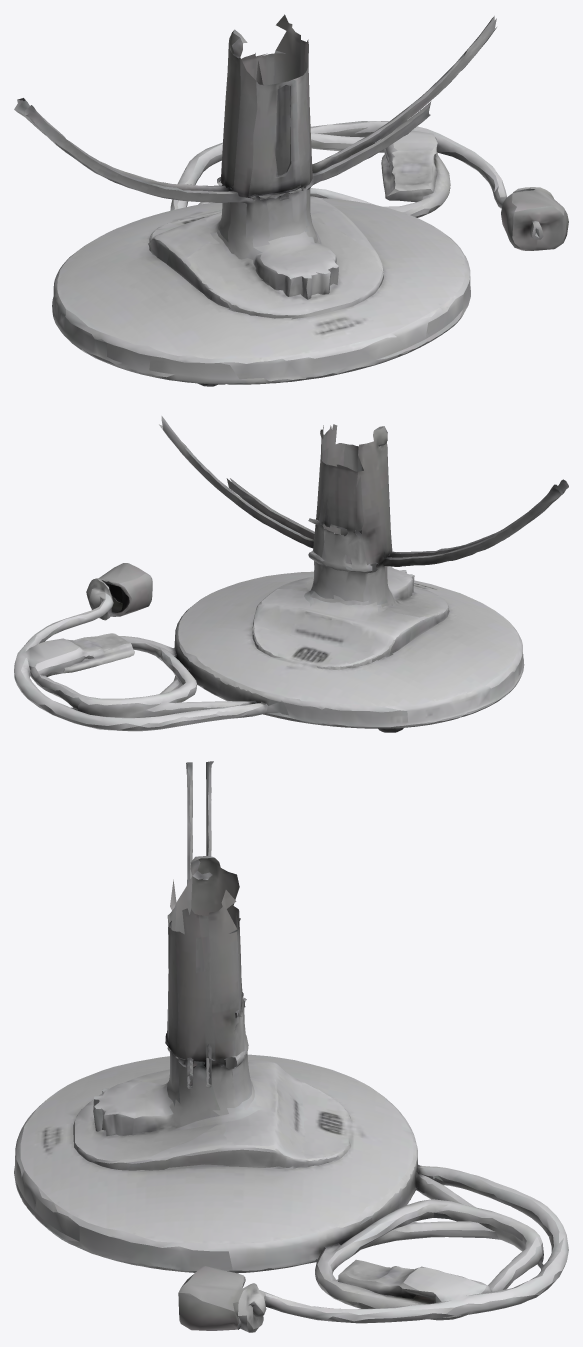
The picture shows the model from 3 angles, top to bottom: view 1: azimuth 30°, elevation 25°; view 2: azimuth 150°, elevation 25°; view 3: azimuth 270°, elevation 25°; orthographic projection. The views are drawn at different scales.
Visible parts, largest first — view 1: world; view 2: world; view 3: world.
Boxes of the visible parts, x1,y1,x2,y2 form: world: (14,14,568,386); world: (14,416,568,732); world: (14,761,568,1332).
Bounding box in the file's own units: 0.3577 × 0.1808 × 0.2873.
1 material, 1 textured.
